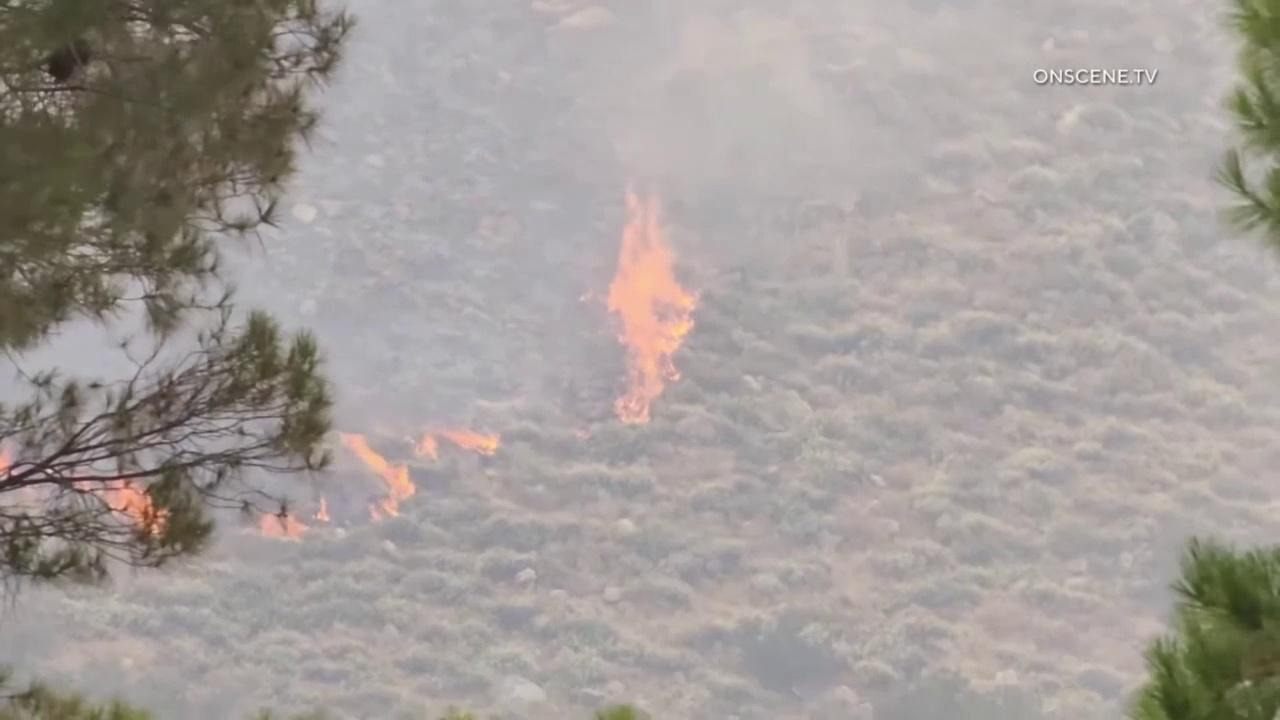fire: (576, 176, 699, 427), (59, 469, 178, 539), (329, 432, 417, 524), (247, 509, 311, 542), (441, 426, 500, 456), (413, 428, 440, 463), (309, 496, 332, 525), (0, 447, 17, 484)
smoke: (0, 0, 1280, 720)
